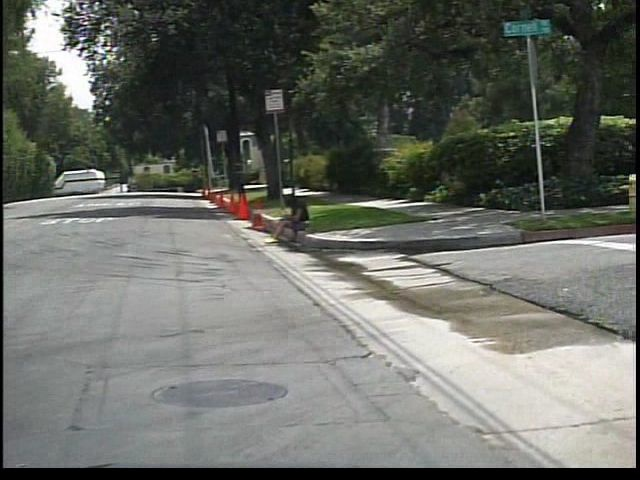person: (266, 192, 321, 246)
